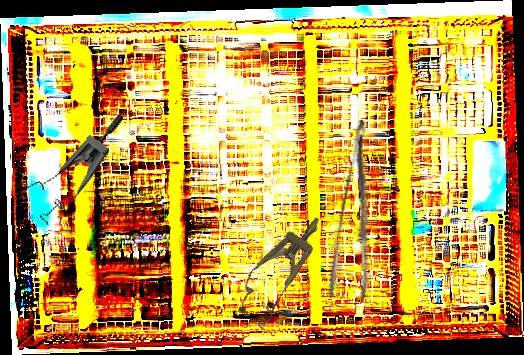Dressing Forceps: (324, 119, 398, 304)
Speculum: (13, 89, 126, 236), (227, 205, 337, 331)
